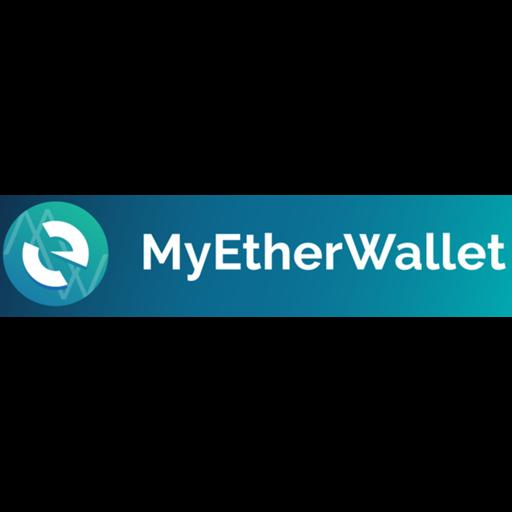MyEtherWallet: (0, 195, 512, 317)
